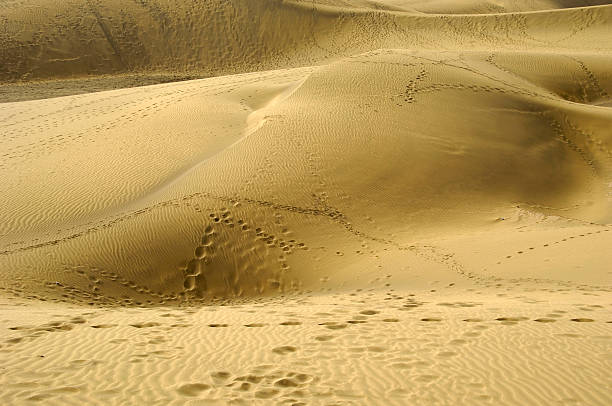animal_footprint: (62, 289, 606, 403), (0, 192, 342, 254), (202, 300, 604, 341), (4, 92, 184, 161), (181, 207, 306, 298), (63, 238, 213, 305), (49, 263, 201, 305), (45, 264, 177, 306), (496, 225, 611, 264), (217, 367, 319, 399), (320, 304, 391, 347), (474, 274, 609, 296), (457, 310, 596, 328), (415, 82, 557, 99), (4, 316, 87, 344), (565, 55, 608, 102), (484, 52, 523, 80), (402, 69, 427, 103), (491, 313, 562, 324), (128, 350, 171, 362), (176, 383, 210, 396), (399, 297, 424, 310), (68, 359, 101, 368), (254, 388, 279, 398), (389, 359, 414, 369), (25, 393, 54, 401), (210, 371, 231, 382), (495, 317, 528, 324), (319, 321, 347, 329), (437, 302, 481, 307), (274, 378, 298, 387), (272, 345, 296, 354), (415, 374, 439, 383), (147, 335, 168, 344), (130, 322, 160, 328), (364, 345, 388, 352), (578, 304, 602, 311), (495, 316, 528, 321), (555, 333, 583, 338), (67, 316, 86, 323), (314, 335, 335, 341), (9, 325, 34, 330), (437, 351, 457, 357), (533, 317, 556, 322), (5, 337, 23, 343), (109, 338, 127, 344), (449, 339, 467, 345), (90, 324, 116, 328), (472, 324, 489, 330), (359, 310, 379, 315), (570, 318, 594, 322), (244, 323, 266, 327), (420, 317, 442, 321), (279, 321, 301, 325), (170, 323, 191, 327), (208, 323, 228, 327), (463, 318, 482, 322), (382, 318, 399, 322), (346, 320, 366, 323), (606, 320, 611, 322)
